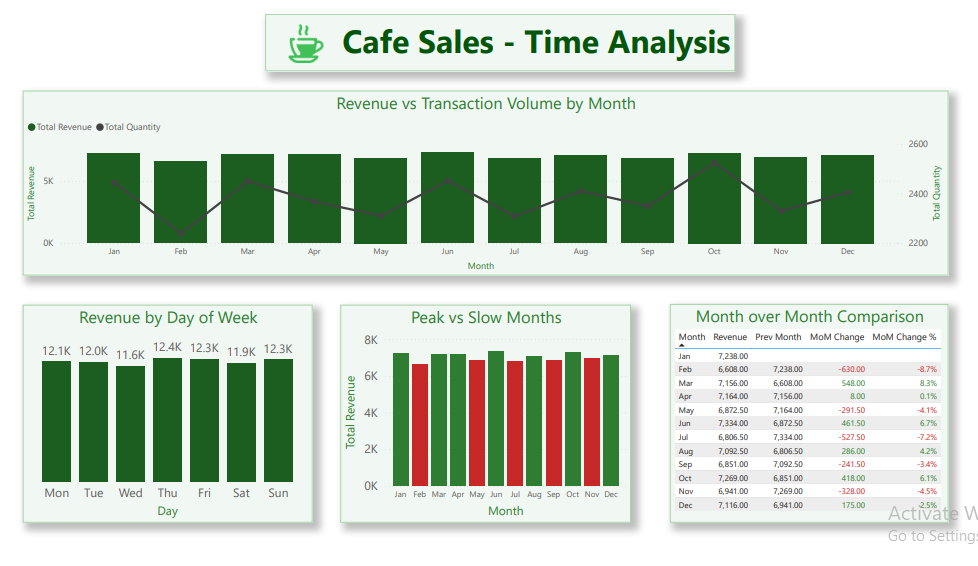

What the dashboard file says about the page in this screenshot:
{"tool":"powerbi","page":{"name":"Time Analysis","canvas":[1280,720],"ordinal":2},"visuals":[{"type":"textbox","box":[340,0,626,76],"z":0},{"type":"image","box":[340,12,108,52],"z":1000},{"type":"lineClusteredColumnComboChart","title":"Revenue vs Transaction Volume by Month","fields":{"Y":["clean_cafe_sales.Total Revenue"],"Y2":["clean_cafe_sales.Total Quantity"],"Category":["DateTable.Month"]},"box":[16.7,101.7,1233.3,246.7],"z":2000},{"type":"clusteredColumnChart","title":"Revenue by Day of Week","fields":{"Category":["DateTable.DayOfWeek"],"Y":["clean_cafe_sales.Total Revenue"]},"box":[16.7,386.7,386.7,290],"z":3000},{"type":"clusteredColumnChart","title":" Peak vs Slow Months","fields":{"Category":["DateTable.Month"],"Y":["clean_cafe_sales.Total Revenue"]},"box":[440,386.7,386.7,290],"z":4000},{"type":"tableEx","title":"Month over Month Comparison","fields":{"Values":["DateTable.Month","clean_cafe_sales.Total Revenue","DateTable.Prev Month Revenue","DateTable.MoM Change","DateTable.MoM Change %"]},"box":[878.6,385.7,371.4,291.4],"z":5000}]}

Visuals, with their boxes in screenshot pixels (x1, y1, x2, y2), scaled from the page's 1280x720 canvas onto the 978x566 screenshot:
textbox: box(260, 0, 738, 60)
image: box(260, 9, 342, 50)
"Revenue vs Transaction Volume by Month" lineClusteredColumnComboChart: box(13, 80, 955, 274)
"Revenue by Day of Week" clusteredColumnChart: box(13, 304, 308, 532)
" Peak vs Slow Months" clusteredColumnChart: box(336, 304, 632, 532)
"Month over Month Comparison" tableEx: box(671, 303, 955, 532)
